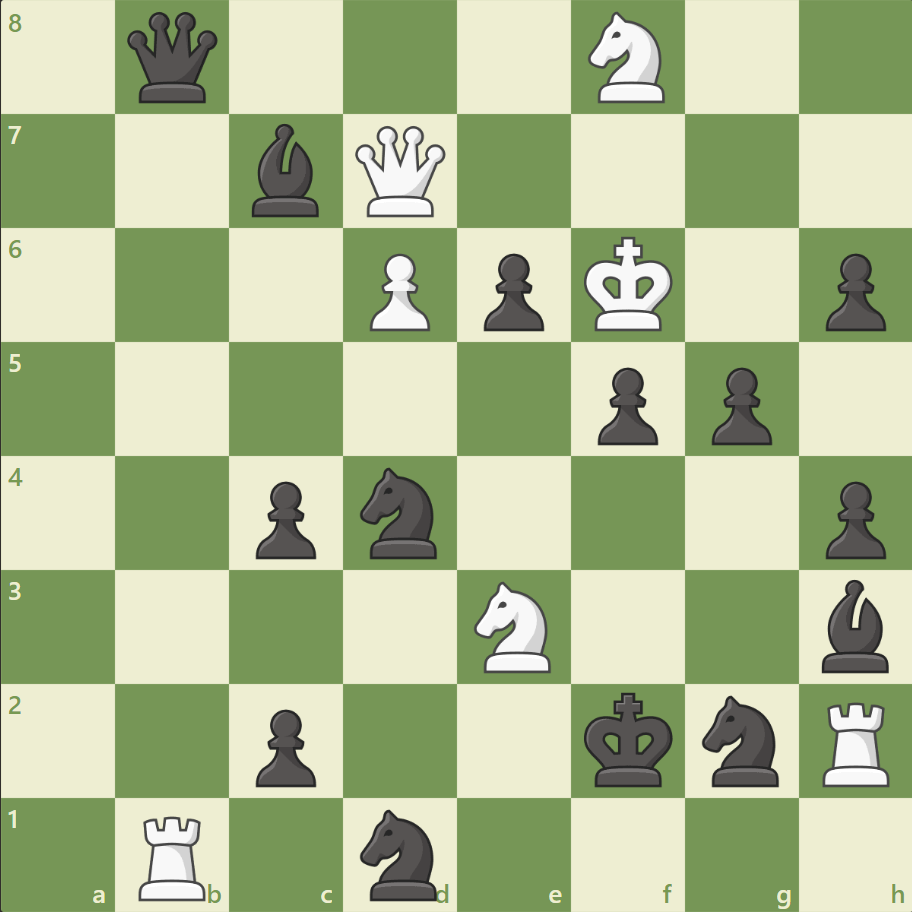K: (579, 231, 679, 339)
N: (579, 7, 676, 110), (465, 575, 562, 677)
P: (361, 246, 435, 337)
Q: (351, 122, 450, 222)
R: (814, 693, 897, 790), (133, 806, 215, 904)
b: (244, 120, 328, 222), (812, 574, 896, 676)
k: (579, 685, 679, 793)
n: (351, 461, 449, 564), (351, 802, 449, 904), (692, 688, 789, 791)
p: (474, 246, 549, 337), (701, 359, 776, 450), (247, 473, 322, 564), (247, 700, 322, 791), (815, 246, 889, 337), (588, 359, 662, 450), (815, 473, 889, 564)
q: (124, 9, 223, 108)
